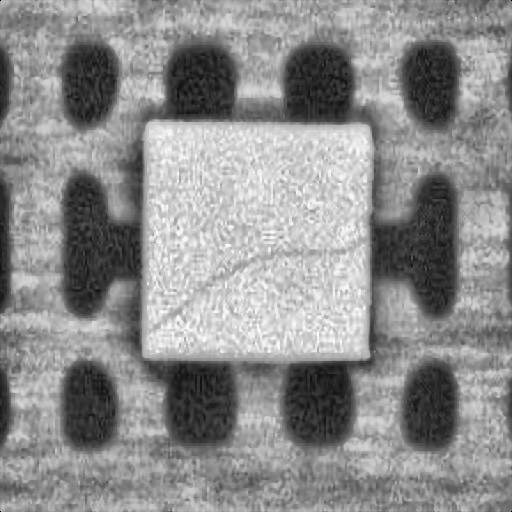DIE_CRACK: (163, 239, 360, 326)
